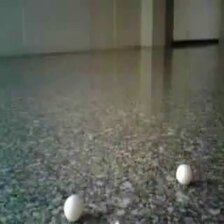w: (63, 194, 83, 222), (176, 165, 192, 184)
